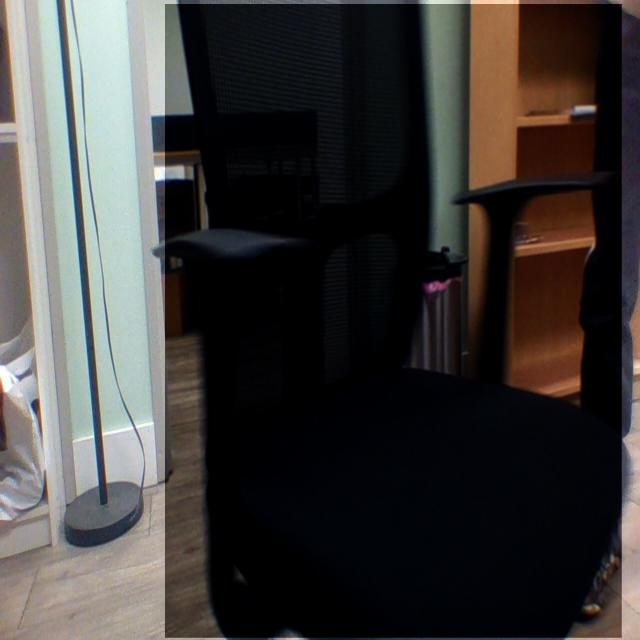black-chair: (165, 4, 623, 639)
